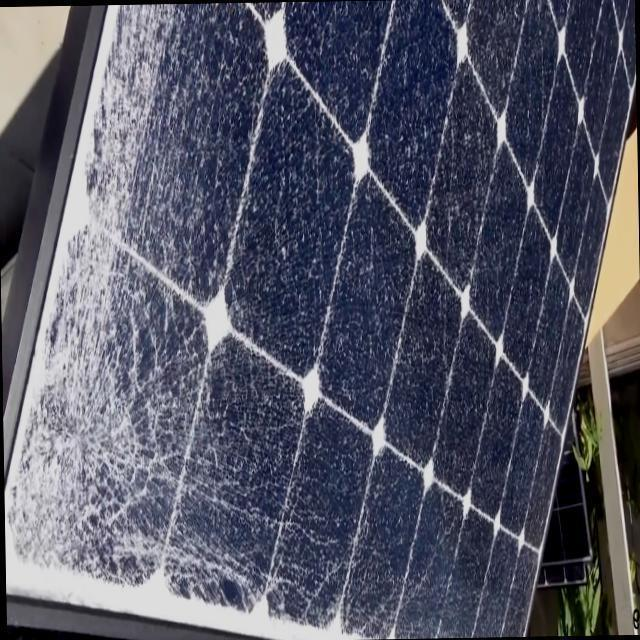Anomaly Solar Panel: (5, 4, 640, 638)
Structural Damage: (4, 3, 237, 611)
